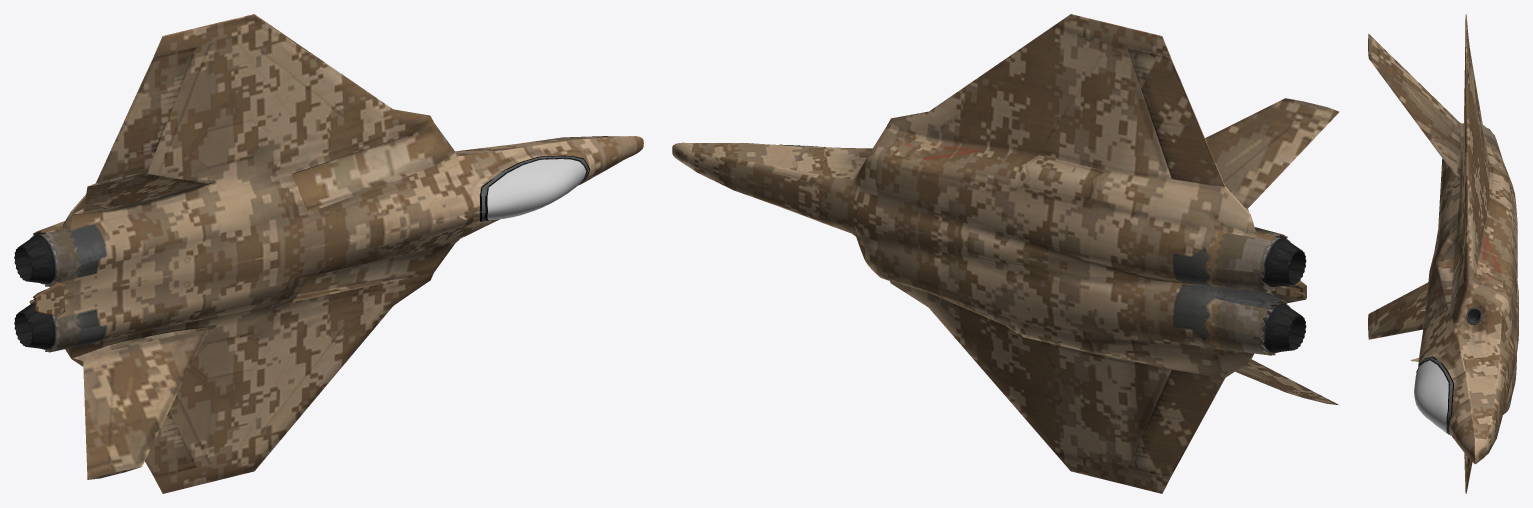
The model's file is veh_t6_air_fa38_killstreak_LOD0.obj.
3 renders of one model, left to right at view 1: azimuth 30°, elevation 25°; view 2: azimuth 150°, elevation 25°; view 3: azimuth 270°, elevation 25°, orthographic. The views are drawn at different scales.
Visible parts, largest first — view 1: mtl_veh_t6_air_fa38_body_friendly, mtl_veh_t6_air_fa38_glass_outside_low; view 2: mtl_veh_t6_air_fa38_body_friendly; view 3: mtl_veh_t6_air_fa38_body_friendly, mtl_veh_t6_air_fa38_glass_outside_low, mtl_veh_t6_air_fa38_cockpit_low, mtl_veh_t6_air_fa38_decals_mult_low.
Part boxes in pixels (x1,y1,x2,y2): mtl_veh_t6_air_fa38_body_friendly: (14, 14, 643, 493); mtl_veh_t6_air_fa38_glass_outside_low: (487, 159, 586, 220); mtl_veh_t6_air_fa38_body_friendly: (672, 14, 1339, 493); mtl_veh_t6_air_fa38_body_friendly: (1368, 14, 1518, 493); mtl_veh_t6_air_fa38_glass_outside_low: (1414, 360, 1448, 432); mtl_veh_t6_air_fa38_cockpit_low: (1418, 356, 1454, 435); mtl_veh_t6_air_fa38_decals_mult_low: (1419, 357, 1453, 434).
Size of the model in its own units: 1508 by 1059 by 331.
